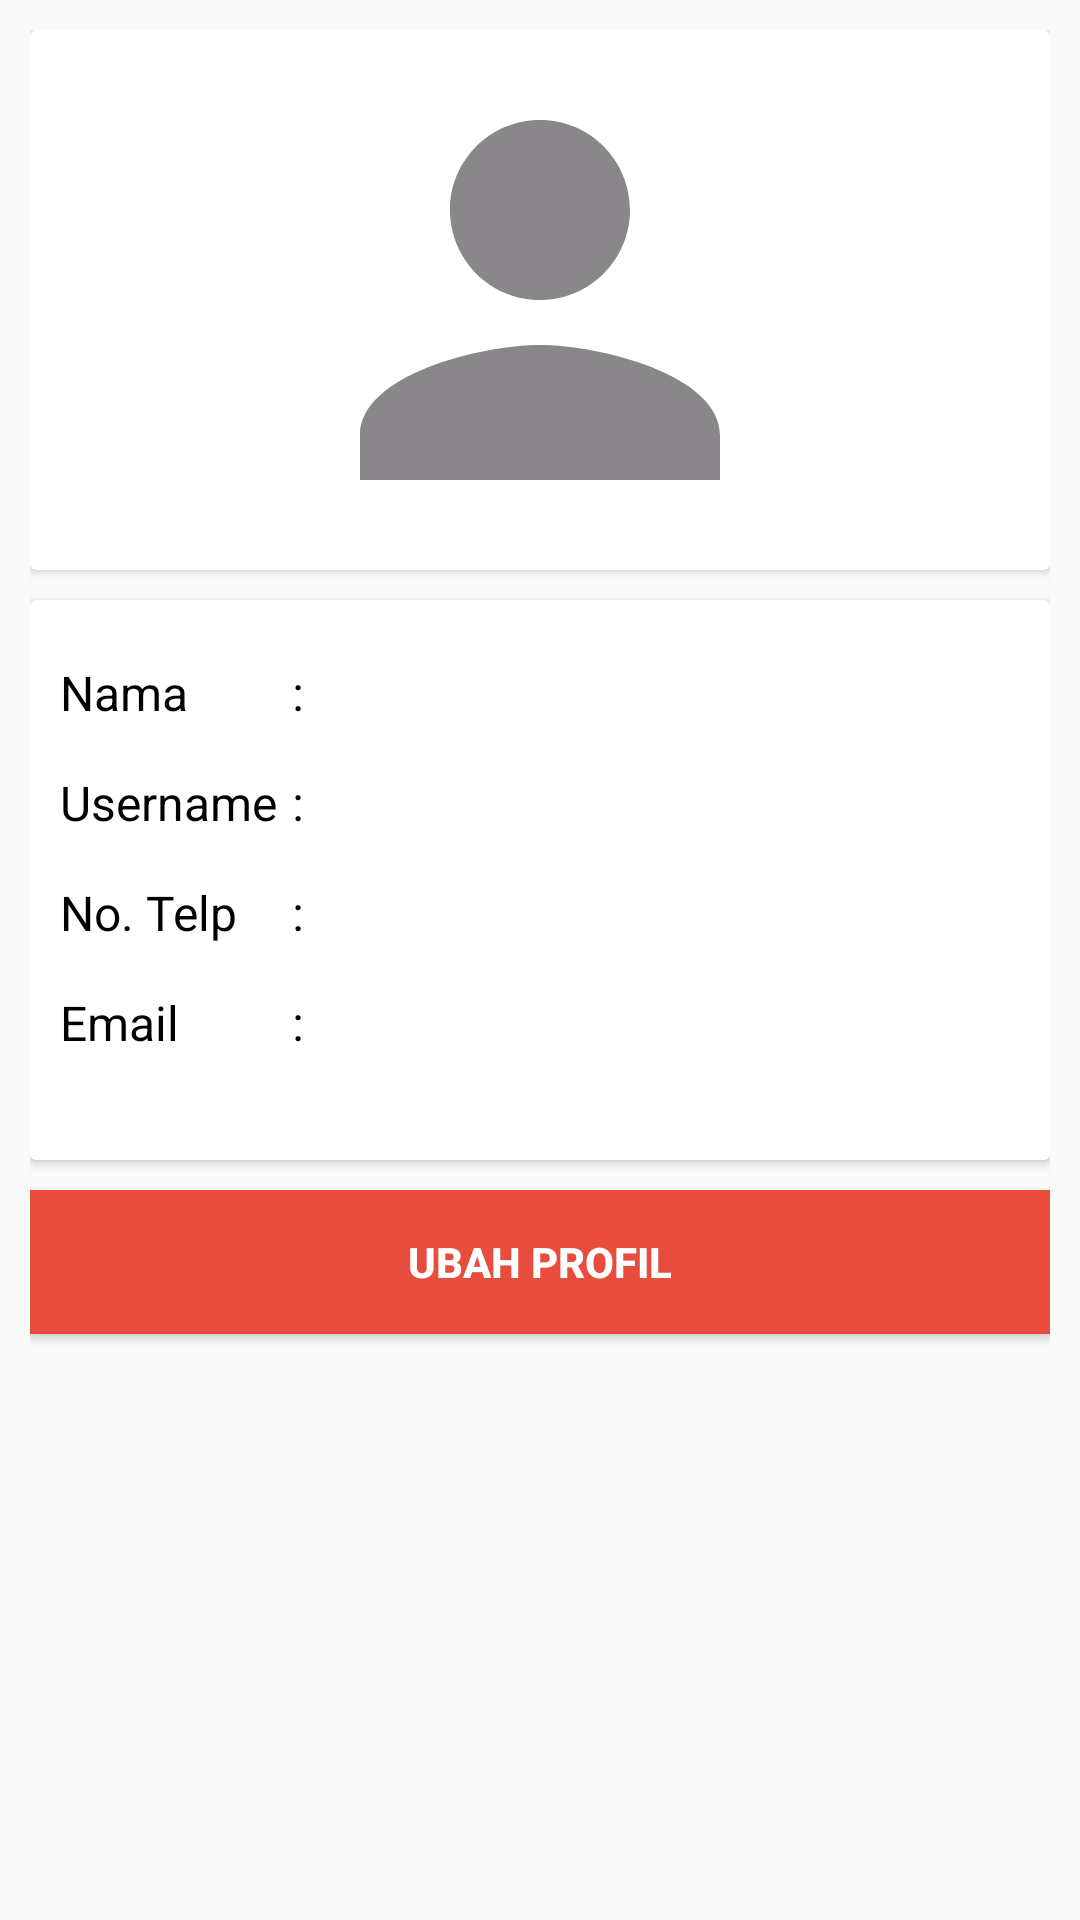

Icon click points for this 1080 × 1920 phone screenshot, format (x,y):
person: (540,300)
